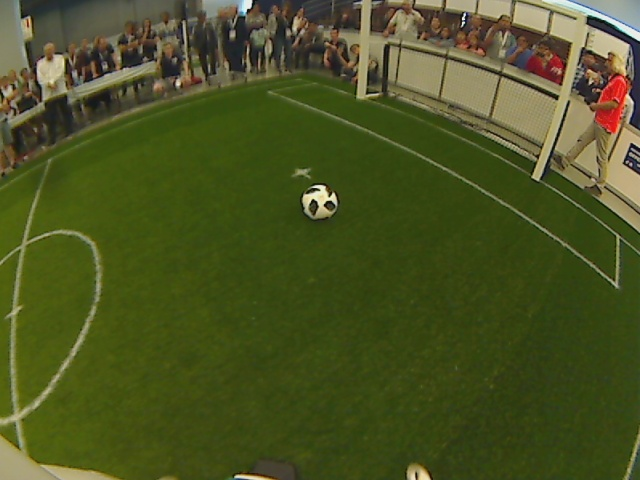ball: (298, 183, 339, 219)
